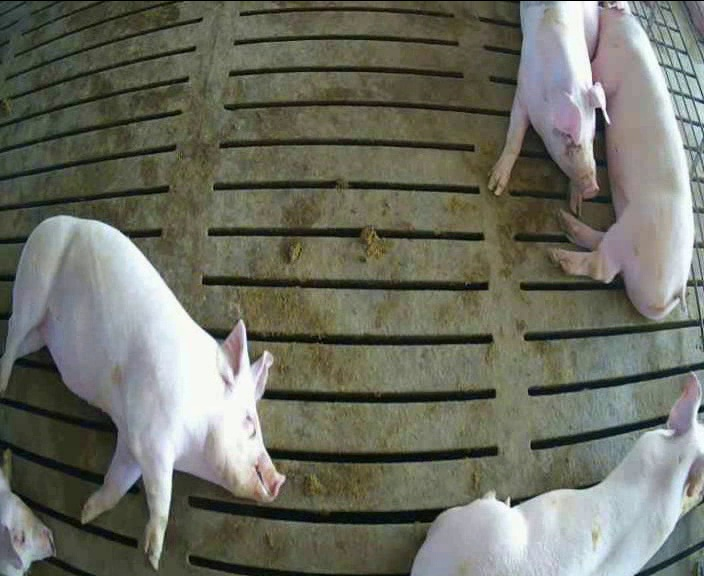pig: (0, 217, 284, 568), (412, 374, 703, 574), (551, 1, 693, 319), (488, 2, 610, 213)
